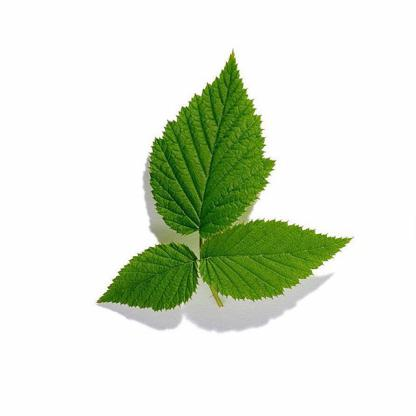Raspberry leaf: (144, 45, 280, 241), (197, 220, 355, 300), (92, 237, 205, 311)
